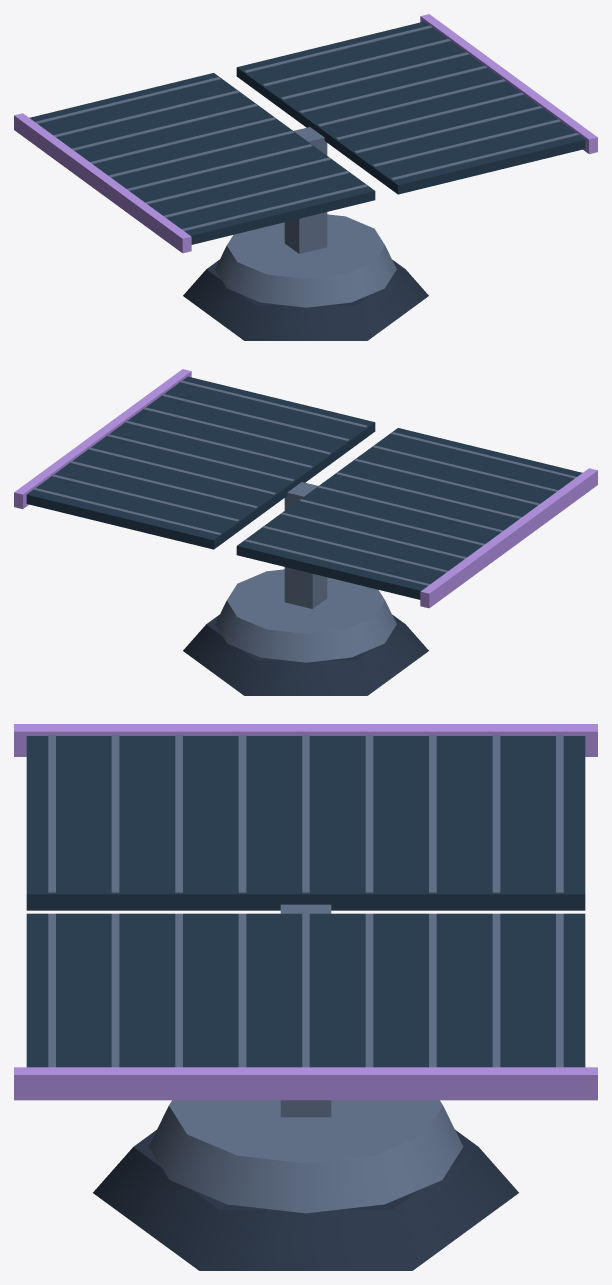
File: cryogenic_hydrocarbon--radiator.glb
3 renders of one model, top to bottom at view 1: azimuth 30°, elevation 25°; view 2: azimuth 150°, elevation 25°; view 3: azimuth 270°, elevation 25°, orthographic. The views are drawn at different scales.
Visible parts, largest first — view 1: radiator_panel_15, radiator_panel_4, rotation_bearing_2, mount_adapter_1, panel_edge_14, panel_edge_25, thermal_riser_3, thermal_channel_17, thermal_channel_19, thermal_channel_16, thermal_channel_20, thermal_channel_21 (+13 smaller); view 2: radiator_panel_15, radiator_panel_4, rotation_bearing_2, mount_adapter_1, panel_edge_14, panel_edge_25, thermal_riser_3, thermal_channel_21, thermal_channel_23, thermal_channel_18, thermal_channel_19, thermal_channel_20 (+13 smaller); view 3: radiator_panel_4, radiator_panel_15, rotation_bearing_2, mount_adapter_1, panel_edge_25, panel_edge_14, thermal_riser_3, thermal_channel_6, thermal_channel_8, thermal_channel_10, thermal_channel_12, thermal_channel_17 (+13 smaller).
Boxes of the visible parts, left/top/right/bottom form: radiator_panel_15: left=236, top=21, right=585, bottom=194; radiator_panel_4: left=29, top=73, right=375, bottom=244; rotation_bearing_2: left=215, top=214, right=396, bottom=307; mount_adapter_1: left=183, top=259, right=428, bottom=340; panel_edge_14: left=14, top=113, right=191, bottom=253; panel_edge_25: left=420, top=14, right=597, bottom=154; thermal_riser_3: left=284, top=127, right=327, bottom=253; thermal_channel_17: left=262, top=39, right=450, bottom=86; thermal_channel_19: left=299, top=65, right=487, bottom=113; thermal_channel_16: left=244, top=25, right=432, bottom=72; thermal_channel_20: left=317, top=79, right=505, bottom=126; thermal_channel_21: left=336, top=92, right=524, bottom=139; radiator_panel_15: left=26, top=376, right=375, bottom=549; radiator_panel_4: left=236, top=428, right=582, bottom=599; rotation_bearing_2: left=215, top=569, right=396, bottom=662; mount_adapter_1: left=183, top=614, right=428, bottom=695; panel_edge_14: left=420, top=468, right=597, bottom=608; panel_edge_25: left=14, top=369, right=191, bottom=509; thermal_riser_3: left=284, top=482, right=327, bottom=608; thermal_channel_21: left=124, top=420, right=312, bottom=468; thermal_channel_23: left=161, top=394, right=349, bottom=441; thermal_channel_18: left=69, top=461, right=257, bottom=508; thermal_channel_19: left=87, top=447, right=275, bottom=494; thermal_channel_20: left=106, top=434, right=294, bottom=481; radiator_panel_4: left=26, top=736, right=585, bottom=910; radiator_panel_15: left=26, top=913, right=585, bottom=1067; rotation_bearing_2: left=148, top=1100, right=463, bottom=1213; mount_adapter_1: left=93, top=1130, right=518, bottom=1270; panel_edge_25: left=14, top=1067, right=597, bottom=1100; panel_edge_14: left=14, top=724, right=597, bottom=756; thermal_riser_3: left=280, top=904, right=331, bottom=1117; thermal_channel_6: left=492, top=735, right=500, bottom=893; thermal_channel_8: left=365, top=735, right=373, bottom=893; thermal_channel_10: left=238, top=735, right=246, bottom=893; thermal_channel_12: left=111, top=735, right=119, bottom=893; thermal_channel_17: left=492, top=913, right=500, bottom=1067.
Bounding box in the file's own units: 19.62 × 7.65 × 13.8.
